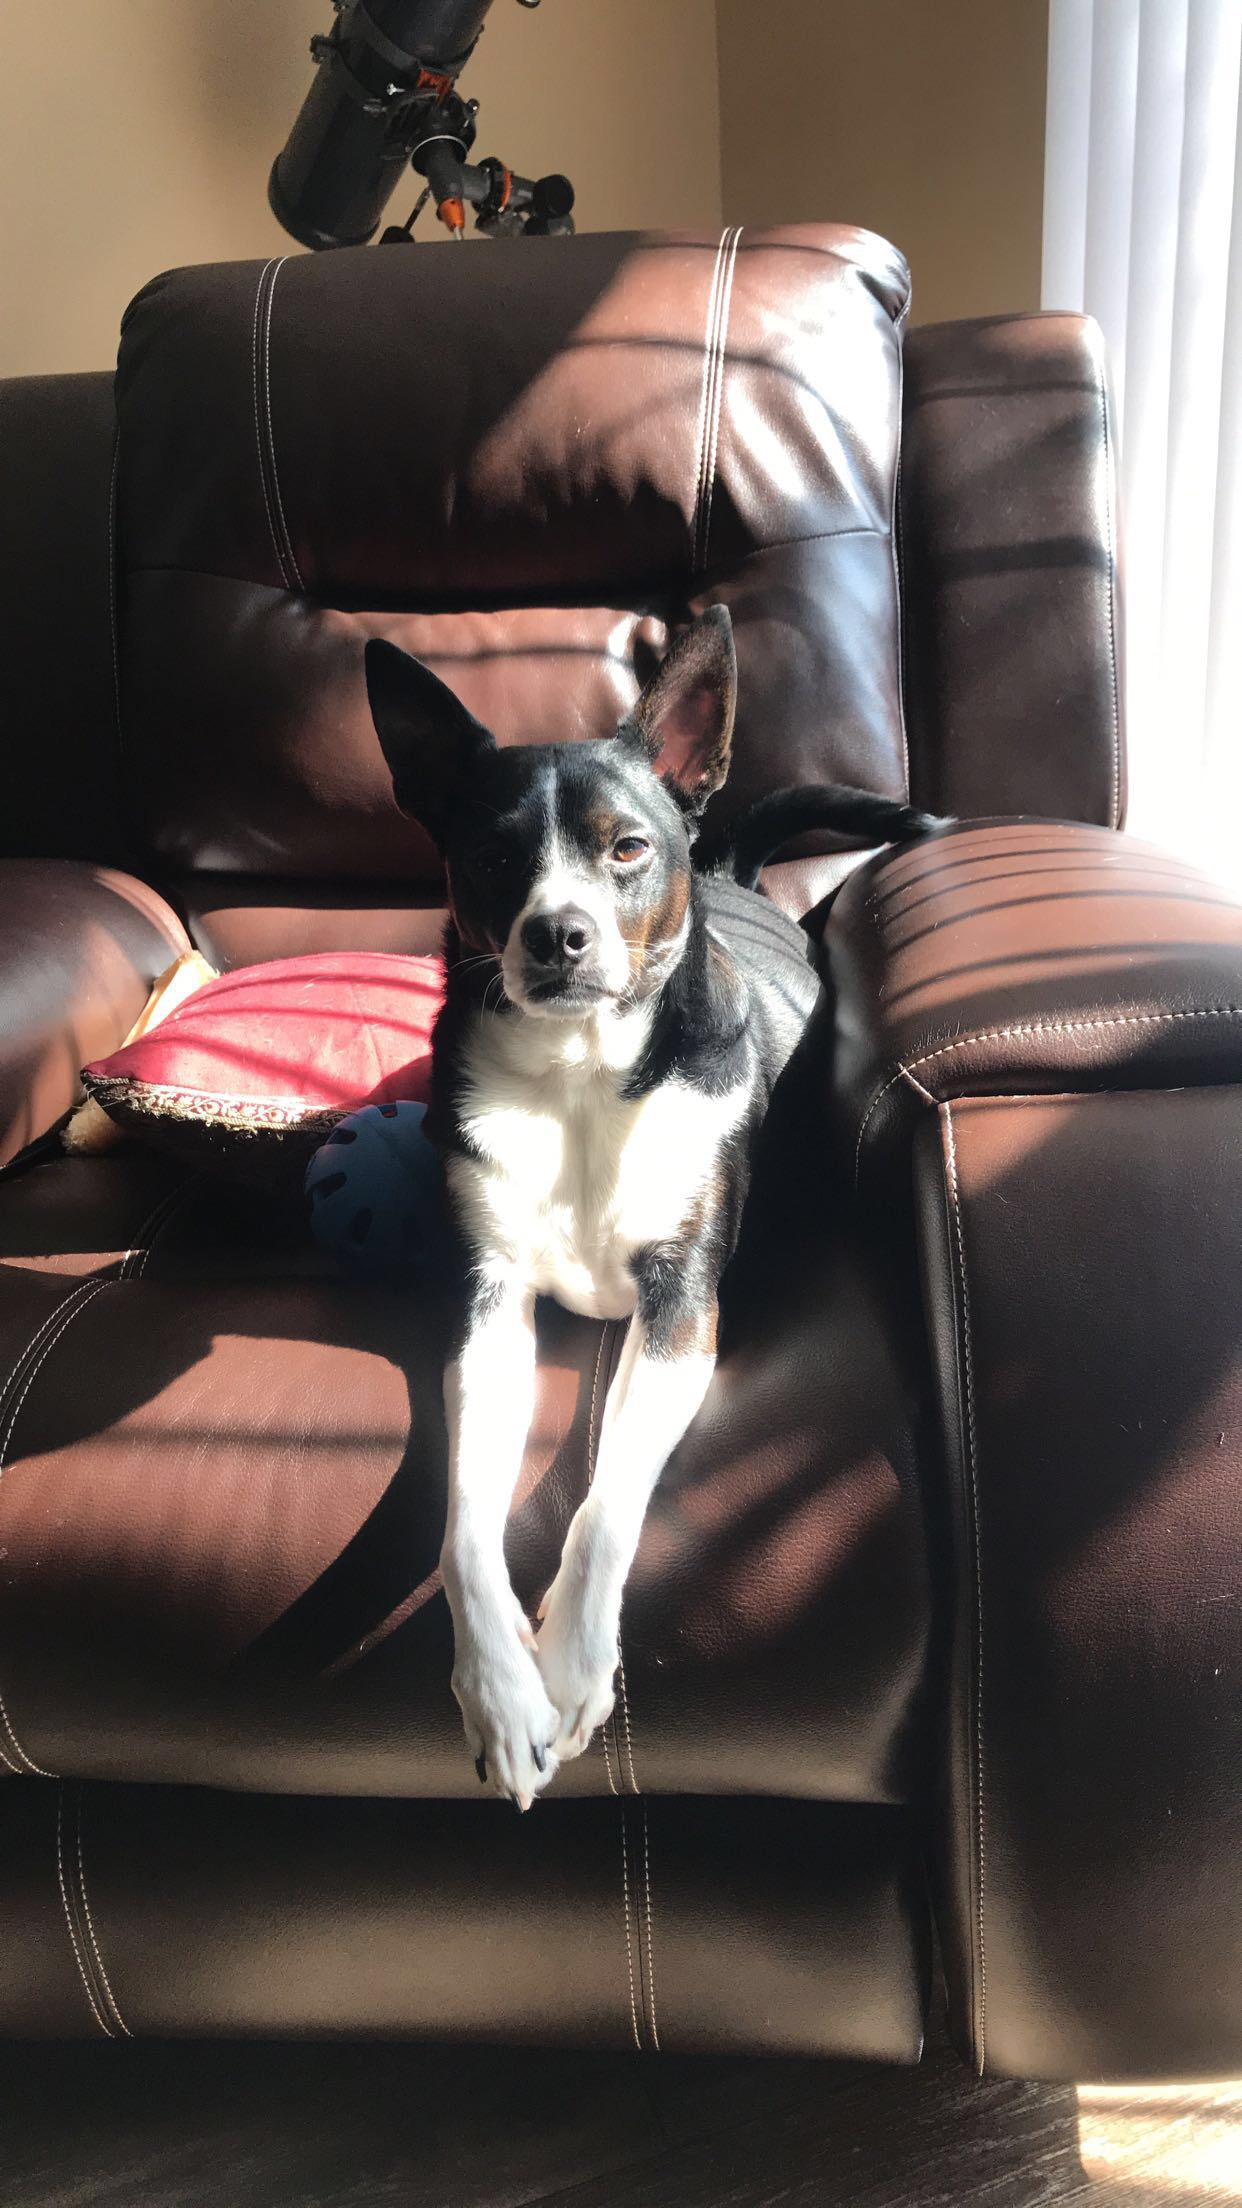Harley: (346, 613, 857, 1832)
